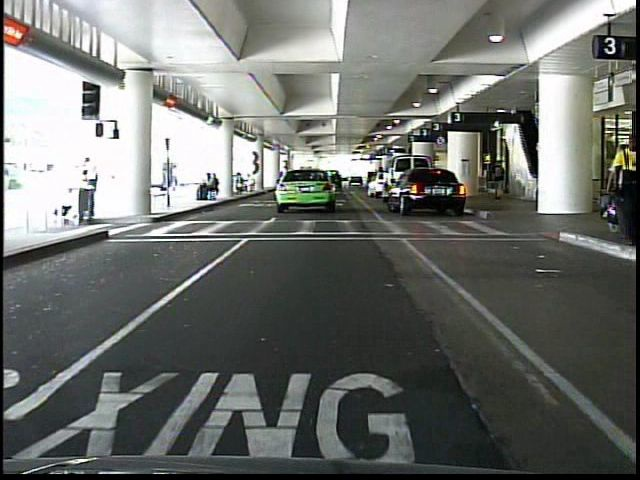person: (596, 133, 640, 249), (77, 155, 110, 232), (491, 159, 505, 202)
